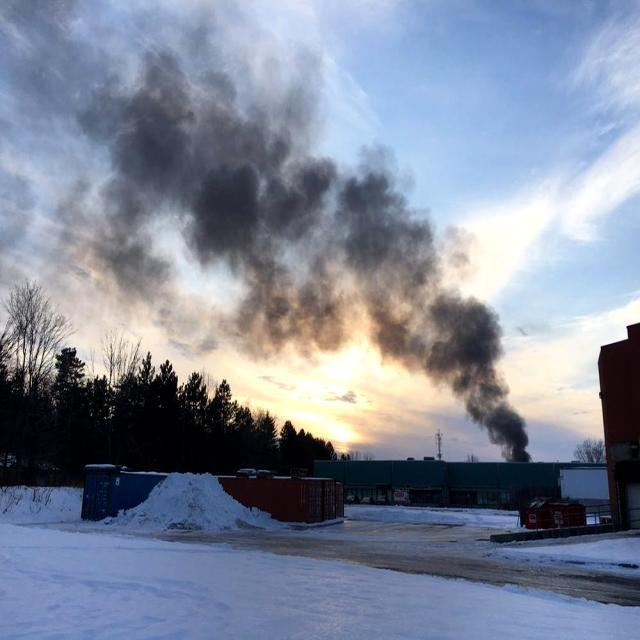Smoke: (59, 50, 452, 354), (426, 292, 537, 464)
